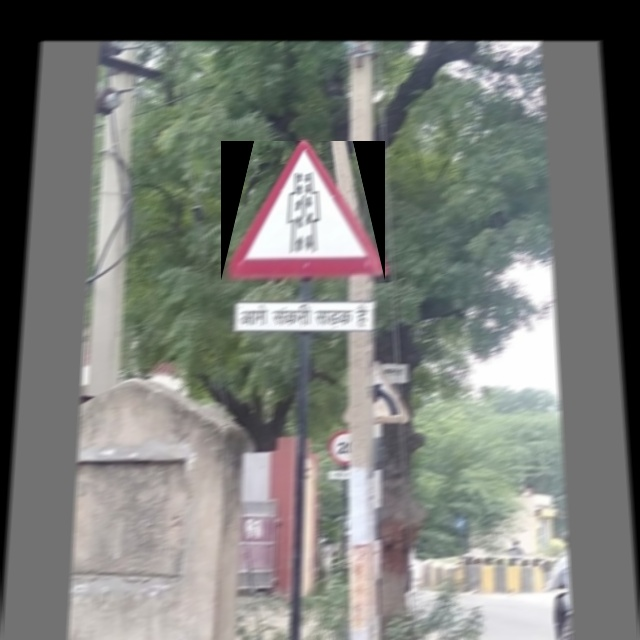Narrow_Road_Ahead: (221, 141, 385, 281)
